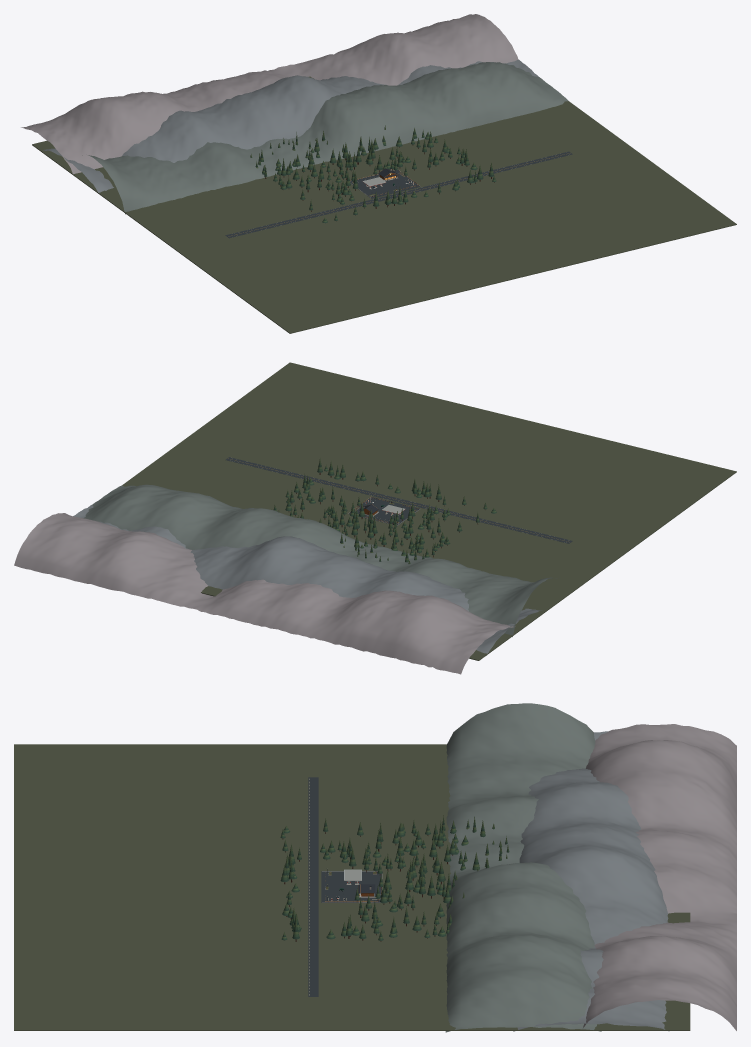
Rendered from pine-station.glb.
The picture shows the model from 3 angles, top to bottom: view 1: azimuth 30°, elevation 25°; view 2: azimuth 150°, elevation 25°; view 3: azimuth 270°, elevation 25°; orthographic projection. The views are drawn at different scales.
Parts seen in each view (by area): view 1: Forest floor, Mountain ridge (×3), Pine Station details, Pine branches dark, Pine branches light, Pine branches medium; view 2: Forest floor, Mountain ridge (×3), Pine Station details, Pine branches light, Pine branches dark, Pine branches medium; view 3: Forest floor, Mountain ridge (×3), Pine Station details, Pine branches light, Pine branches dark, Pine branches medium.
Part boxes in pixels (left/top/right/bottom): Forest floor: left=32, top=76, right=736, bottom=333; Mountain ridge (×3): left=21, top=14, right=568, bottom=214; Pine Station details: left=225, top=151, right=572, bottom=238; Pine branches dark: left=255, top=133, right=496, bottom=223; Pine branches light: left=250, top=125, right=495, bottom=221; Pine branches medium: left=250, top=131, right=495, bottom=222; Forest floor: left=122, top=362, right=736, bottom=660; Mountain ridge (×3): left=14, top=484, right=559, bottom=674; Pine Station details: left=225, top=457, right=572, bottom=543; Pine branches light: left=271, top=458, right=495, bottom=563; Pine branches dark: left=273, top=465, right=496, bottom=562; Pine branches medium: left=274, top=463, right=496, bottom=563; Forest floor: left=14, top=744, right=690, bottom=1030; Mountain ridge (×3): left=445, top=703, right=736, bottom=1032; Pine Station details: left=308, top=777, right=382, bottom=996; Pine branches light: left=281, top=815, right=508, bottom=938; Pine branches dark: left=280, top=823, right=509, bottom=940; Pine branches medium: left=281, top=821, right=508, bottom=939.
Bounding box in the file's own units: 650 × 49.28 × 695.
Materials: 88 (41 with a texture image).
